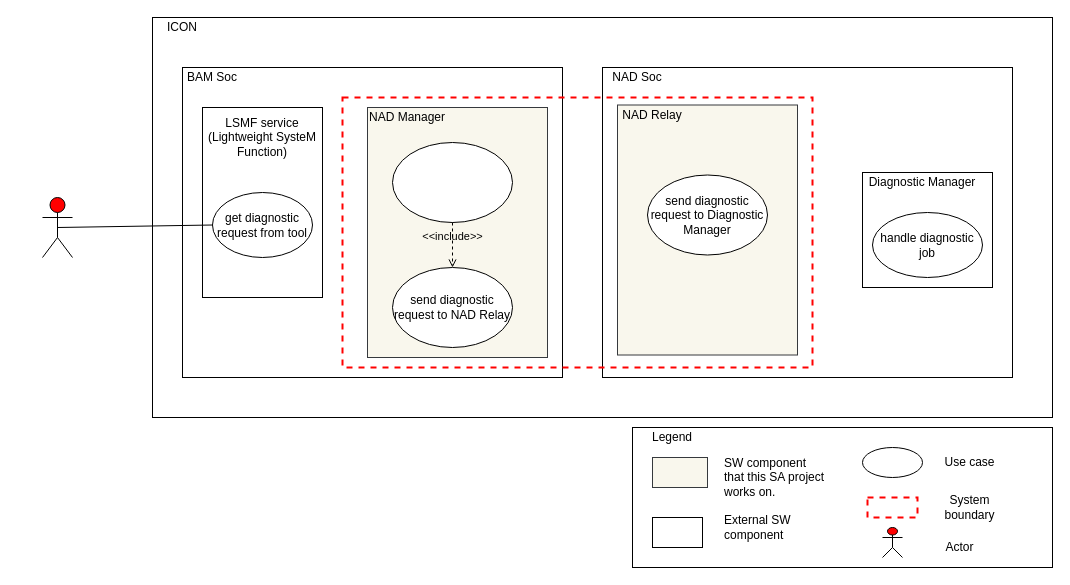
The diagram is 1070 pixels wide and 585 high, and some of its shapes have lost their labels. Here are the shapes that lost their labels. From the top down, the centre of each, then its label:
(452,182): handle diagnostic request from LSMF
(57,227): Diagnostic Tool
